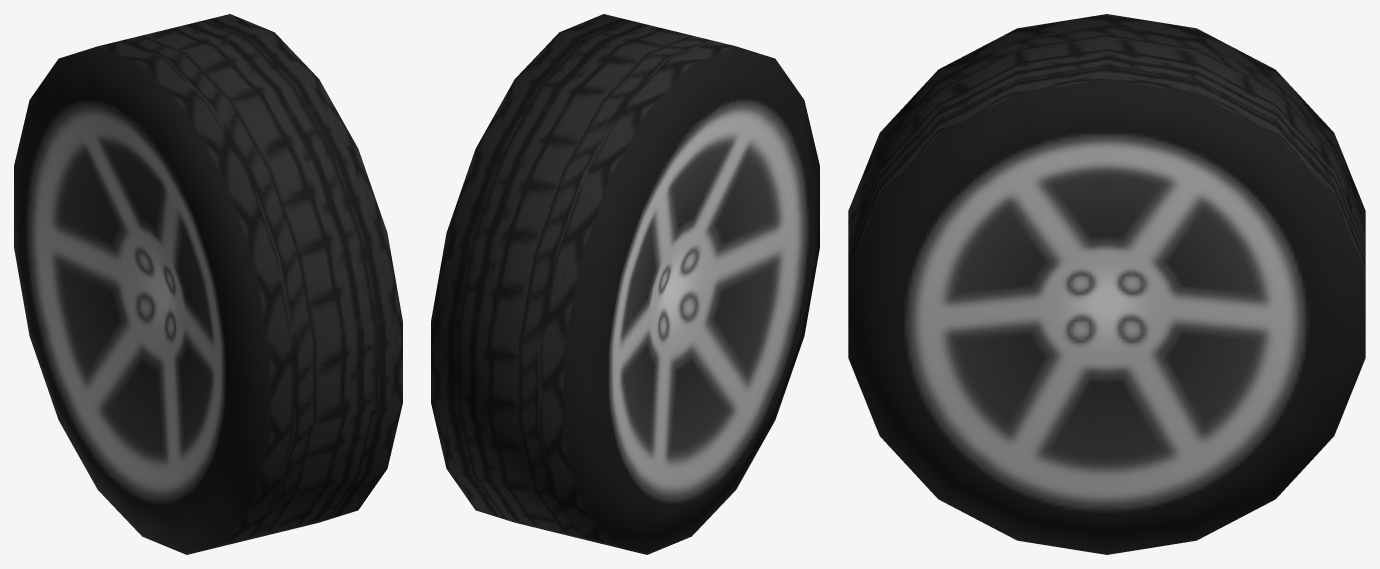
The model's file is cordo_wrc_wheel.obj.
3 renders of one model, left to right at view 1: azimuth 30°, elevation 25°; view 2: azimuth 150°, elevation 25°; view 3: azimuth 270°, elevation 25°, orthographic.
Visible parts, largest first — view 1: wheel_Cylinder01x.004; view 2: wheel_Cylinder01x.004; view 3: wheel_Cylinder01x.004.
Part boxes in pixels (x1,y1,x2,y2): wheel_Cylinder01x.004: (14, 14, 402, 554); wheel_Cylinder01x.004: (431, 14, 819, 554); wheel_Cylinder01x.004: (848, 14, 1365, 554).
Bounding box in the file's own units: 0.7576 × 2.03 × 2.
Materials: 1 (1 with a texture image).
